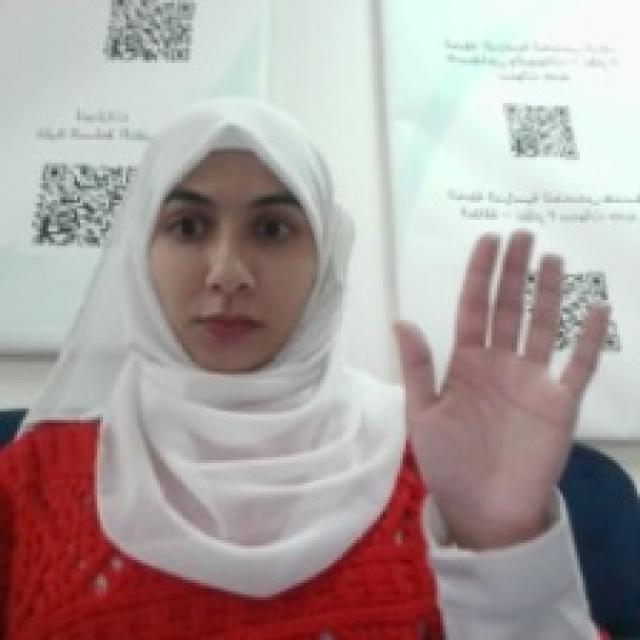Hello: (386, 220, 611, 526)
